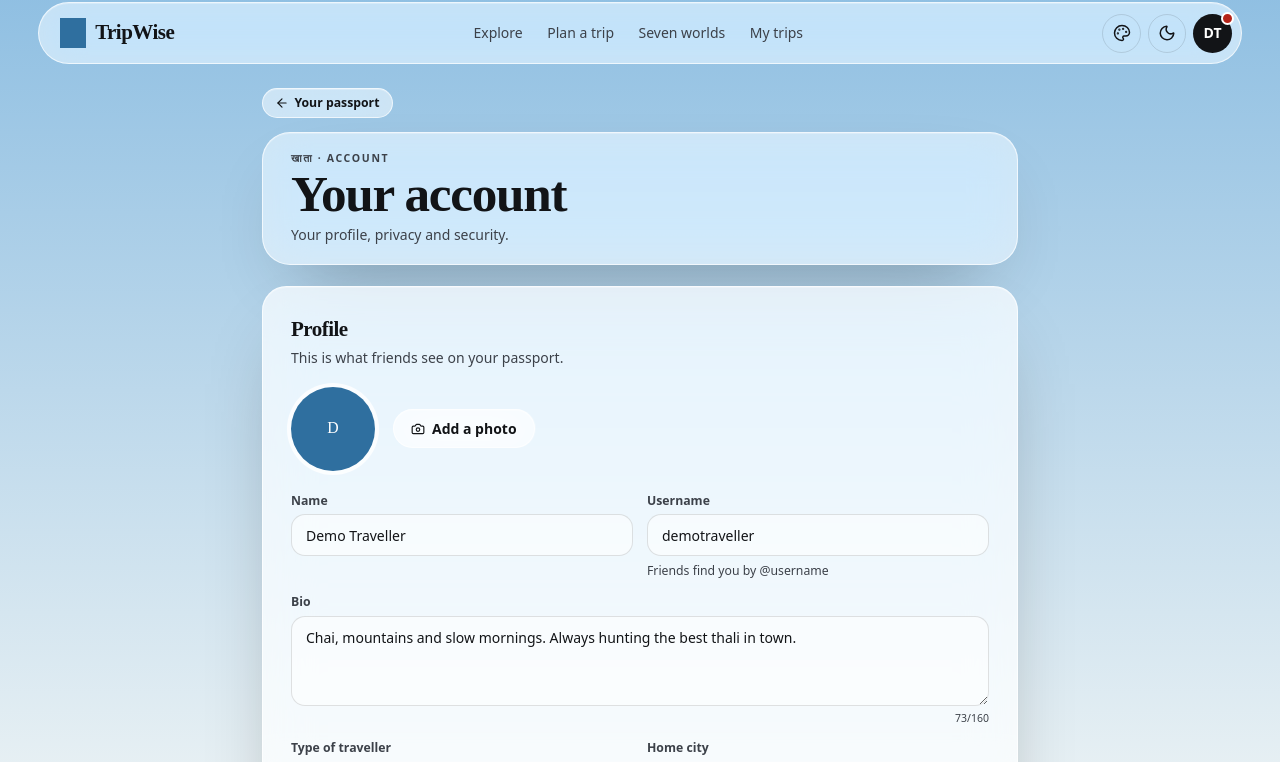
it: AccountPage › says when a username is taken
Replace the text in the field labelled "Username" with "meera". click: (818, 536)
box: [647, 514, 989, 556]
(page scrolled)
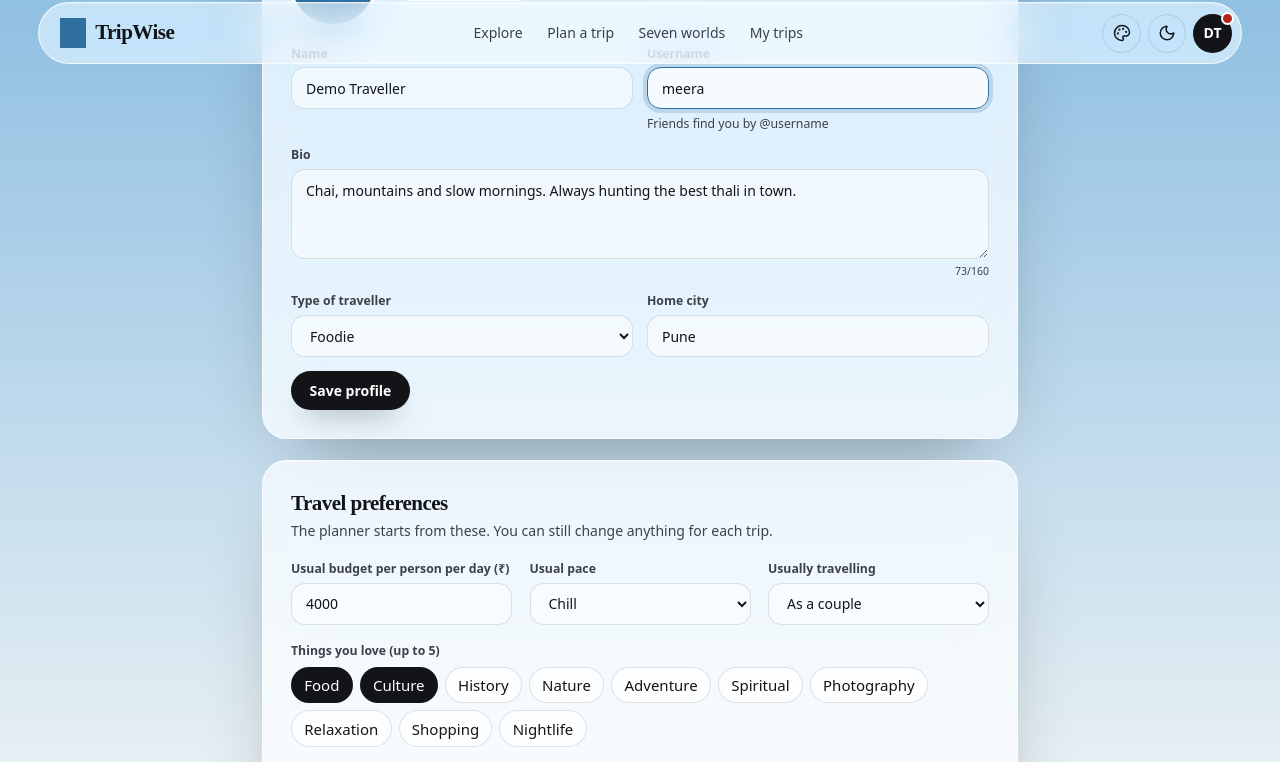
Click the button "Save profile". click: (350, 390)
box: [291, 371, 410, 410]
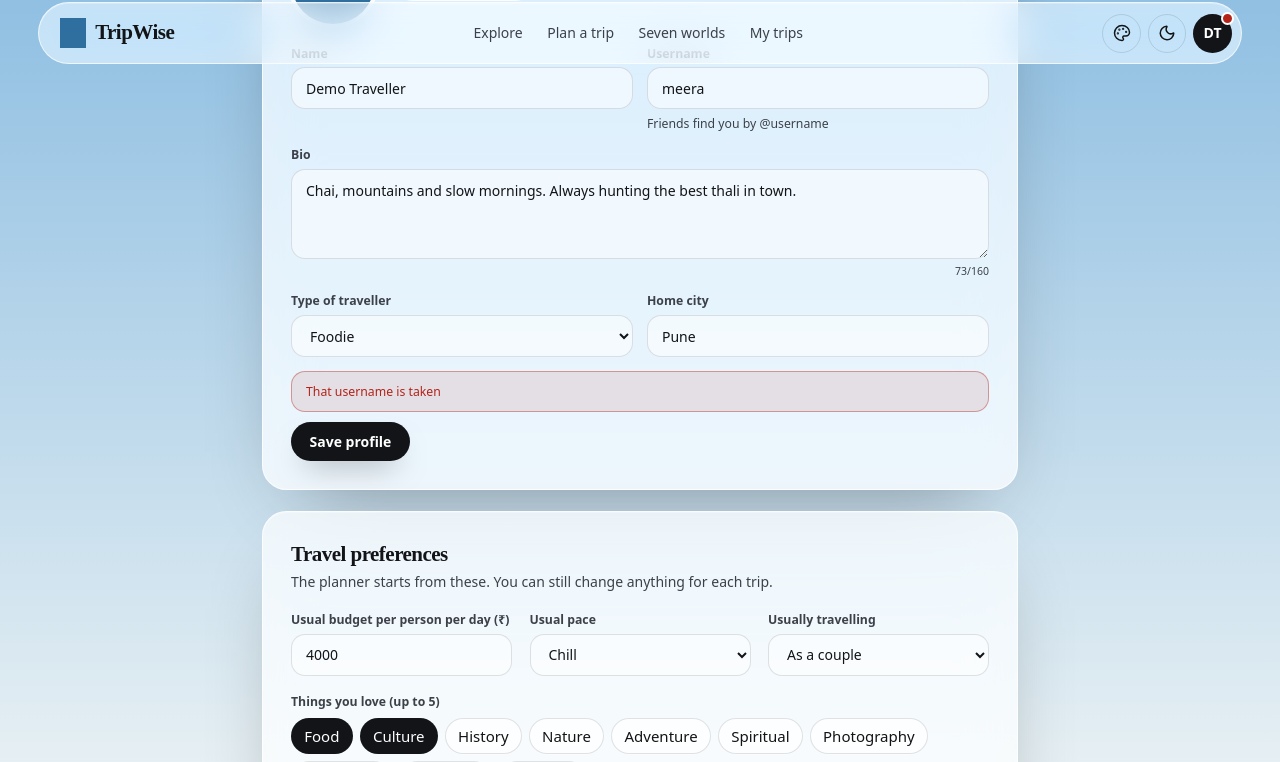
Result: the message reads "That username is taken" at [306, 383, 441, 400]
